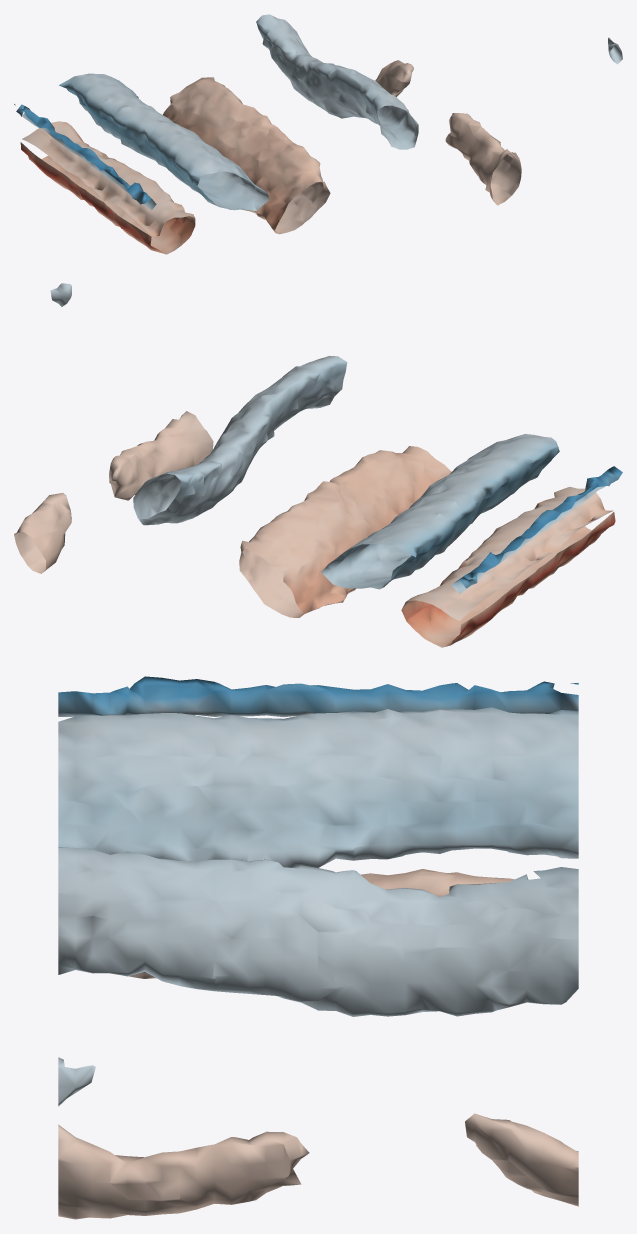
3 renders of one model, top to bottom at view 1: azimuth 30°, elevation 25°; view 2: azimuth 150°, elevation 25°; view 3: azimuth 270°, elevation 25°, orthographic. The views are drawn at different scales.
Bounding box in the file's own units: 5.32 × 1.41 × 2.5.
